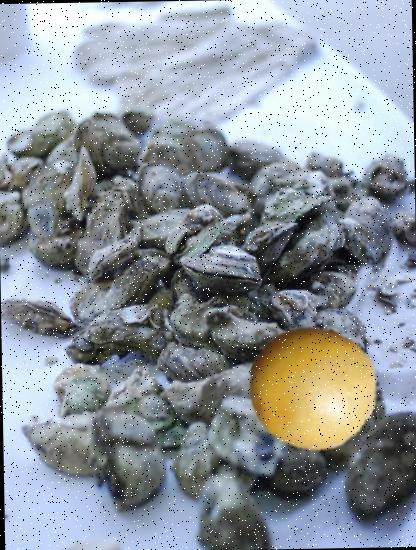Grapefruit: (247, 322, 378, 453)
